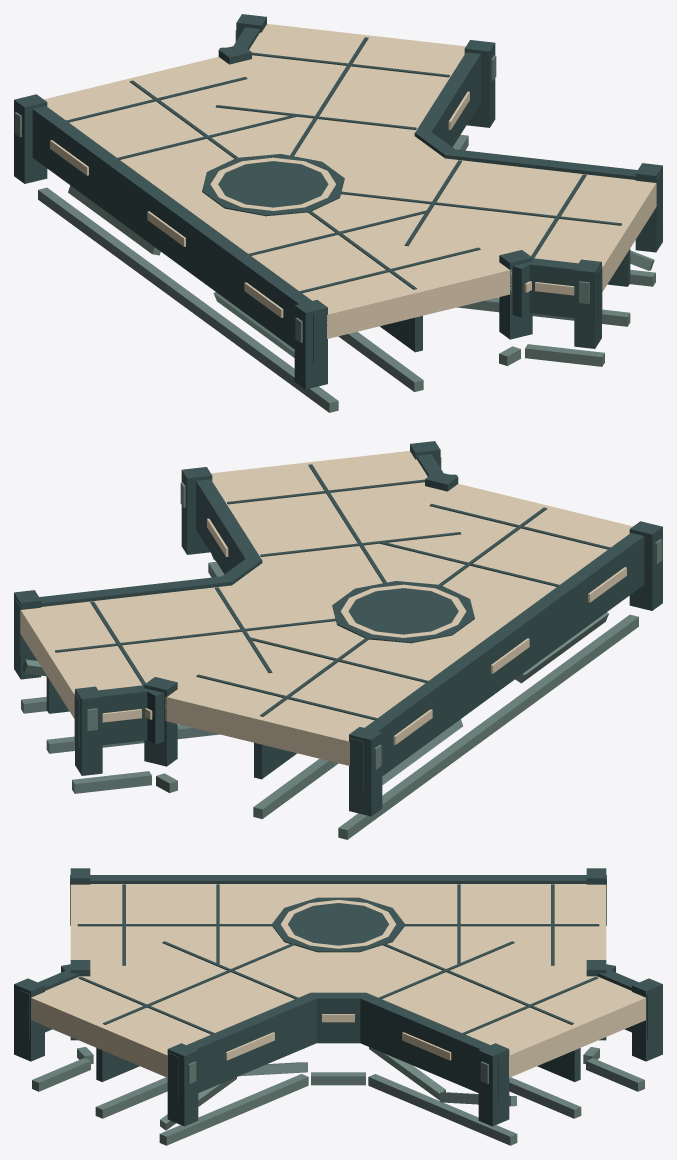
File: Junction_Kletter_lab2.glb
The picture shows the model from 3 angles, top to bottom: view 1: azimuth 30°, elevation 25°; view 2: azimuth 150°, elevation 25°; view 3: azimuth 270°, elevation 25°; orthographic projection. The views are drawn at different scales.
Visible parts, largest first — view 1: Junction_Kletter; view 2: Junction_Kletter; view 3: Junction_Kletter.
Part boxes in pixels (left/top/right/bottom): Junction_Kletter: left=14, top=14, right=662, bottom=412; Junction_Kletter: left=14, top=441, right=662, bottom=839; Junction_Kletter: left=14, top=868, right=662, bottom=1145.
Bounding box in the file's own units: 6.34 × 1.58 × 9.21.
